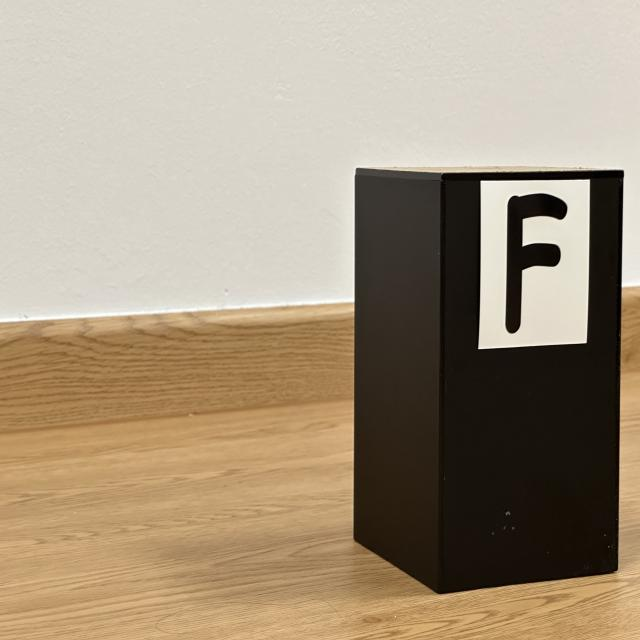F: (505, 193, 568, 333)
